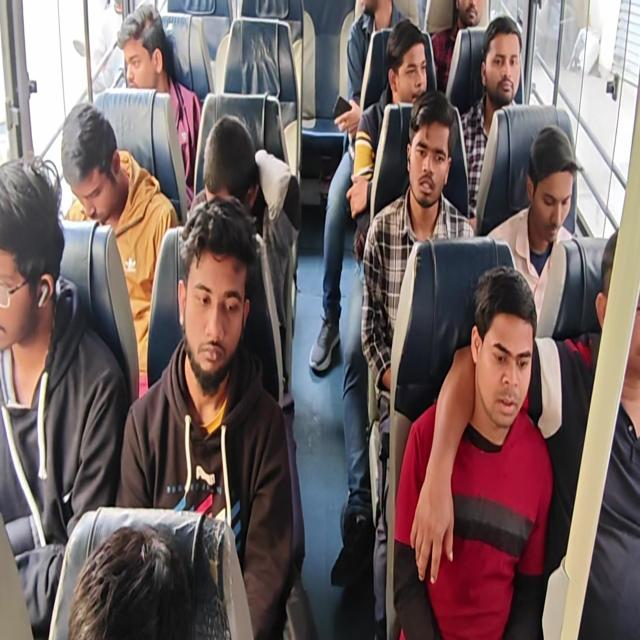person: (1, 1, 638, 638), (427, 227, 639, 636), (115, 196, 294, 638), (360, 88, 476, 638), (0, 154, 129, 638), (392, 265, 553, 638), (332, 12, 429, 587), (309, 0, 408, 372), (60, 102, 179, 398), (558, 227, 640, 639), (189, 113, 301, 402), (346, 18, 429, 265), (486, 123, 580, 333), (116, 2, 202, 208), (67, 523, 193, 639), (459, 15, 523, 223), (430, 0, 485, 94)
